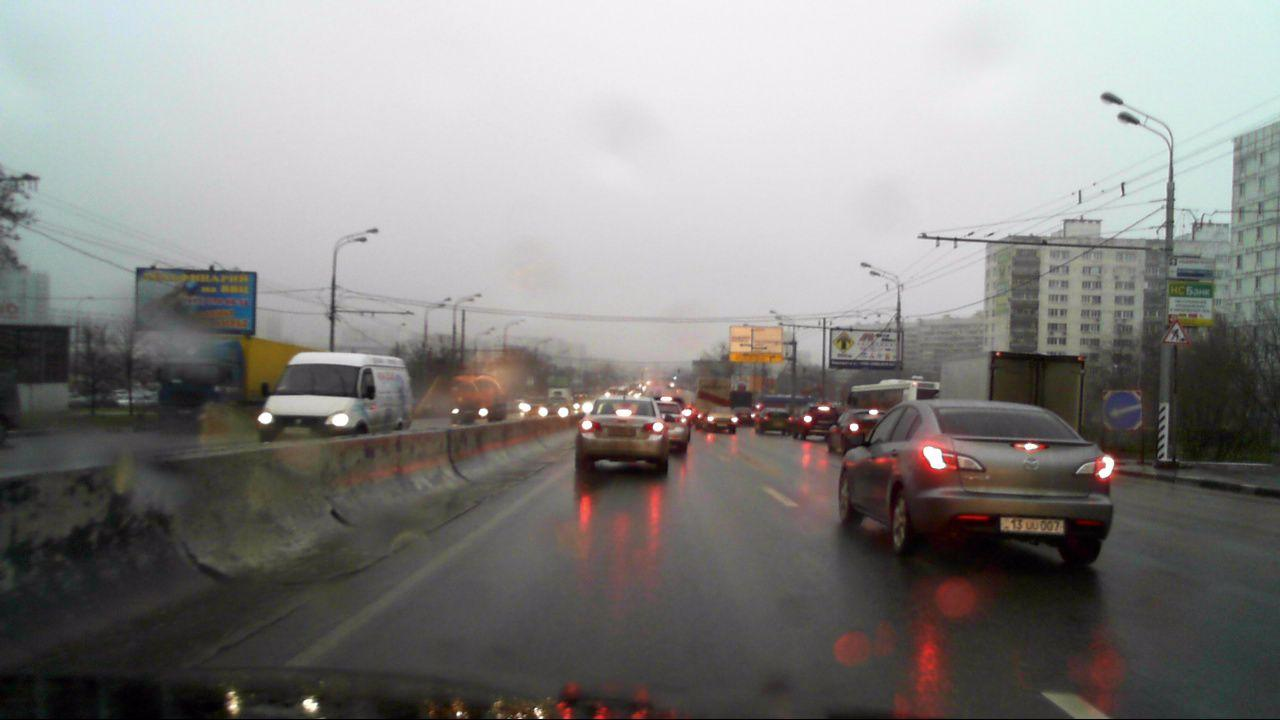road_sign: (1104, 390, 1142, 430), (1159, 318, 1193, 345)
